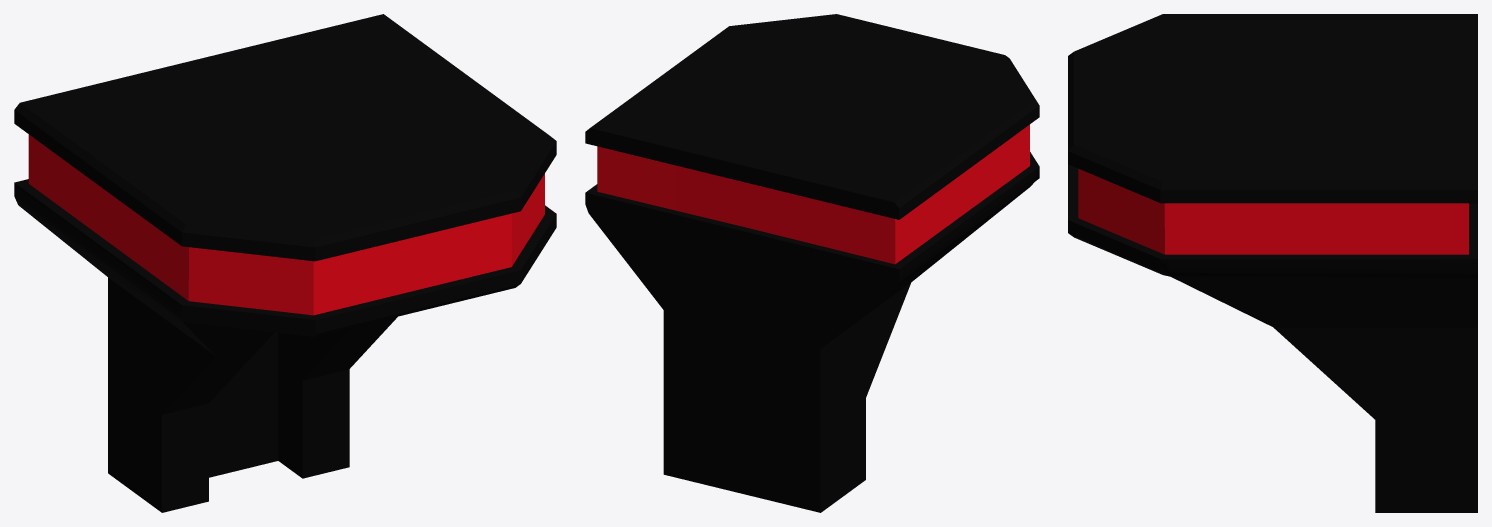
File: SM_Gargoyle_Platform.fbx
3 renders of one model, left to right at view 1: azimuth 30°, elevation 25°; view 2: azimuth 150°, elevation 25°; view 3: azimuth 270°, elevation 25°, orthographic. The views are drawn at different scales.
Visible parts, largest first — view 1: SM_Gargoyle_Platform; view 2: SM_Gargoyle_Platform; view 3: SM_Gargoyle_Platform.
Part boxes in pixels (left/top/right/bottom): SM_Gargoyle_Platform: left=14, top=14, right=556, bottom=512; SM_Gargoyle_Platform: left=585, top=14, right=1039, bottom=512; SM_Gargoyle_Platform: left=1068, top=14, right=1477, bottom=512.
Size of the model in its own units: 40 by 40 by 40.
